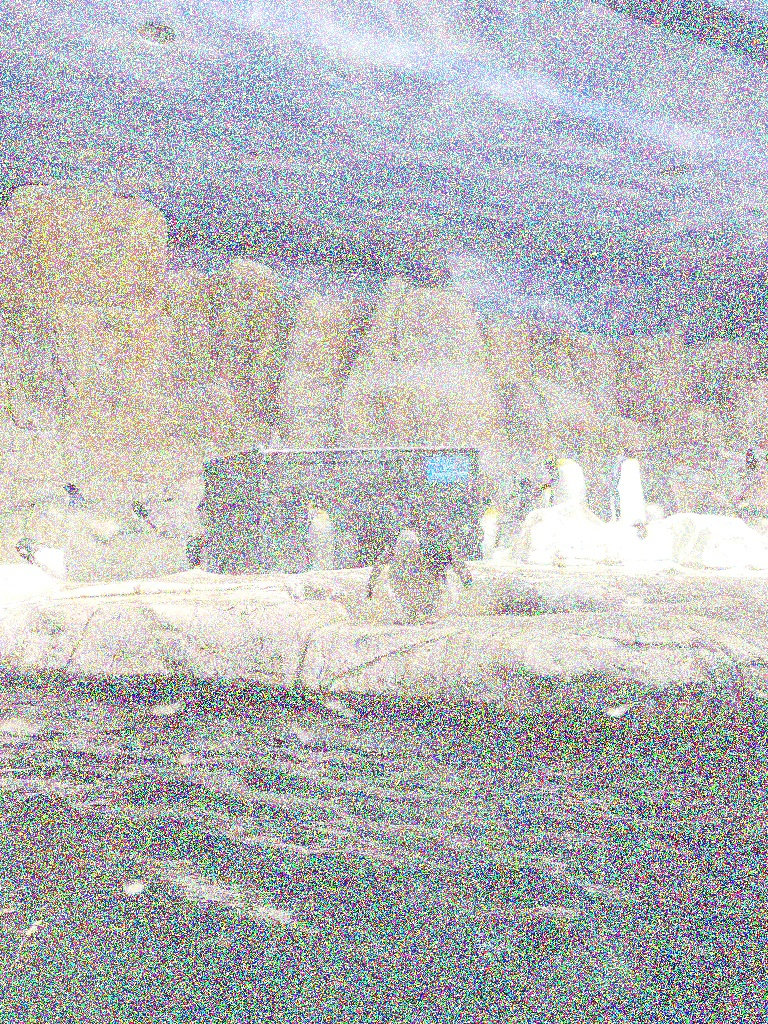penguin: (380, 523, 469, 623), (600, 441, 650, 531), (296, 490, 348, 576), (545, 450, 591, 514), (14, 534, 74, 578), (508, 470, 540, 524), (476, 488, 500, 558), (185, 537, 215, 575), (730, 495, 758, 527), (62, 478, 88, 512), (696, 484, 716, 520), (742, 447, 760, 473), (135, 500, 149, 522)
